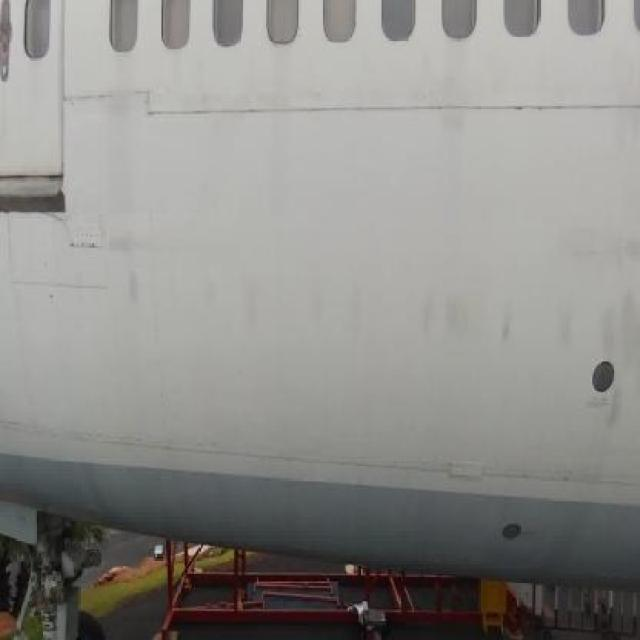Scartch: (417, 265, 640, 446), (302, 261, 388, 370), (106, 218, 180, 342), (195, 256, 276, 358)
